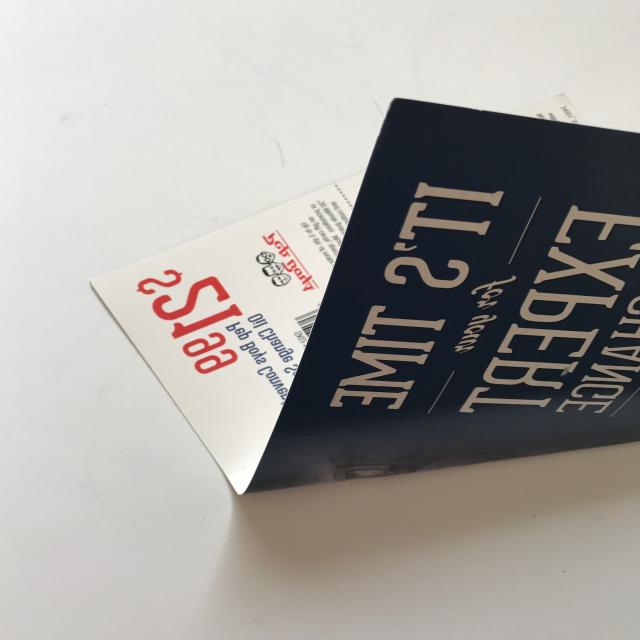paper: (54, 80, 635, 533)
